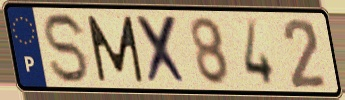2: (281, 15, 330, 91)
4: (241, 16, 279, 88)
8: (188, 14, 231, 88)
M: (84, 13, 147, 84)
S: (42, 10, 92, 86)
X: (133, 13, 191, 87)
